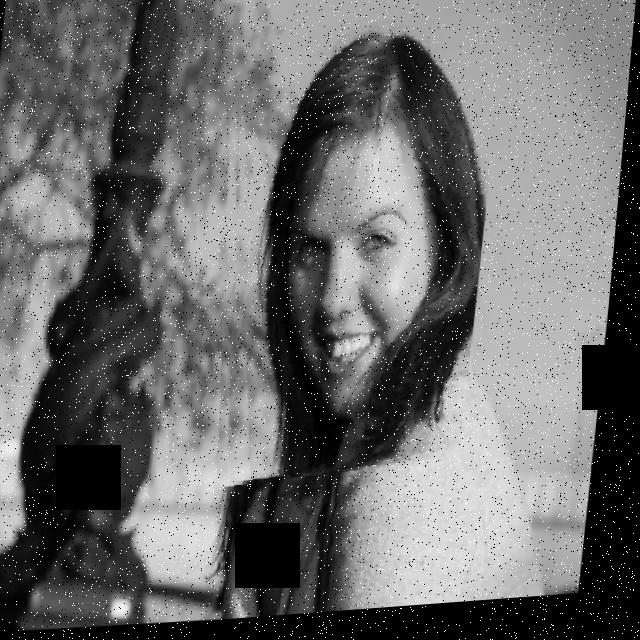happy: (202, 15, 508, 493)
